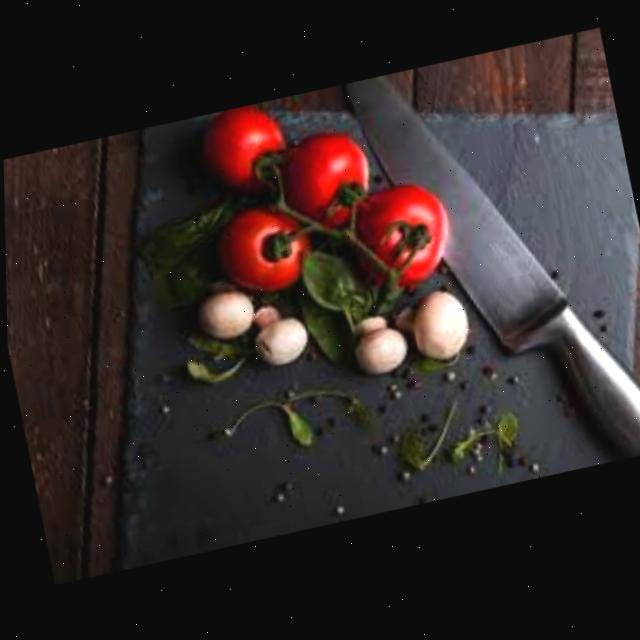Knife: (342, 32, 640, 508)
